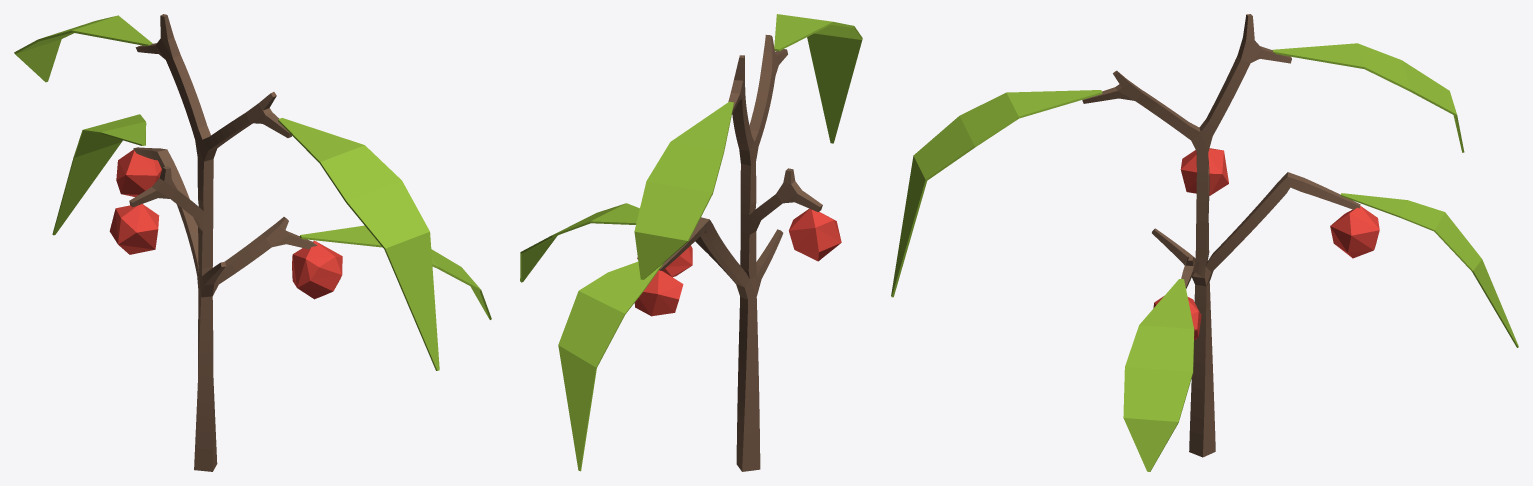
Rendered from Plant3.fbx.
The picture shows the model from 3 angles, left to right: view 1: azimuth 30°, elevation 25°; view 2: azimuth 150°, elevation 25°; view 3: azimuth 270°, elevation 25°; orthographic projection. The views are drawn at different scales.
Parts seen in each view (by area): view 1: Plant3; view 2: Plant3; view 3: Plant3.
Part boxes in pixels (bbox=[...]): Plant3: bbox=[14, 14, 491, 471]; Plant3: bbox=[520, 14, 862, 471]; Plant3: bbox=[891, 14, 1518, 471].
Bounding box in the file's own units: 263 × 316 × 419.
